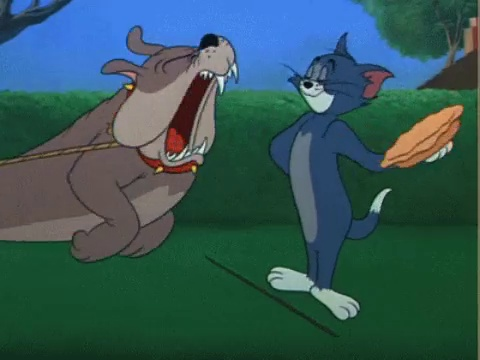tom: (265, 31, 455, 325)
